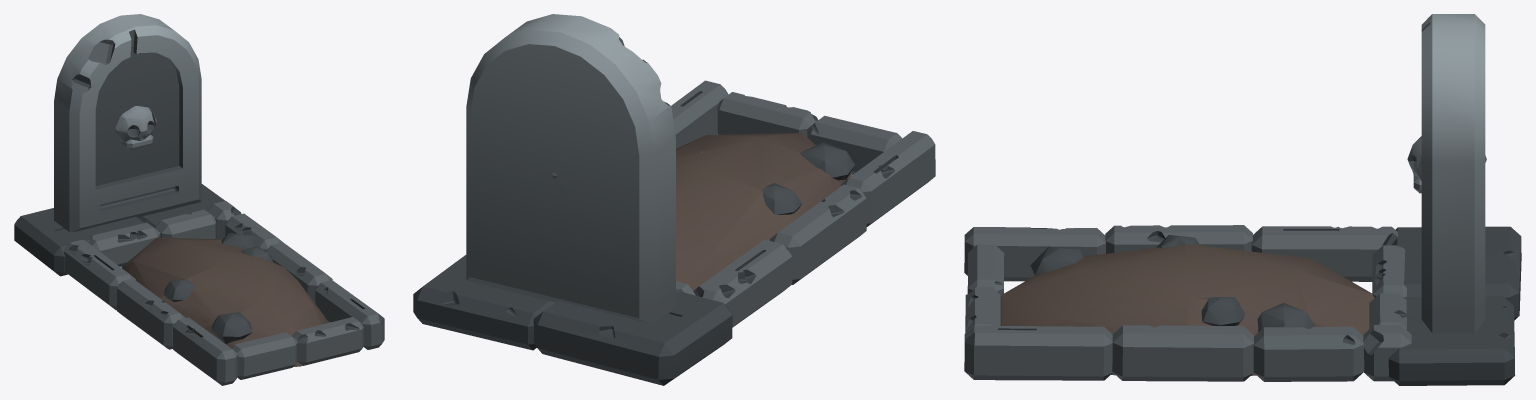
The model's file is grave_round.glb.
3 renders of one model, left to right at view 1: azimuth 30°, elevation 25°; view 2: azimuth 150°, elevation 25°; view 3: azimuth 270°, elevation 25°, orthographic. The views are drawn at different scales.
Visible parts, largest first — view 1: grave_round; view 2: grave_round; view 3: grave_round.
Boxes of the visible parts, bbox=[...] form: grave_round: bbox=[14, 14, 384, 385]; grave_round: bbox=[413, 14, 935, 385]; grave_round: bbox=[964, 14, 1521, 385].
Bounding box in the file's own units: 1.41 × 1.58 × 2.62.
Materials: 1 (1 with a texture image).
